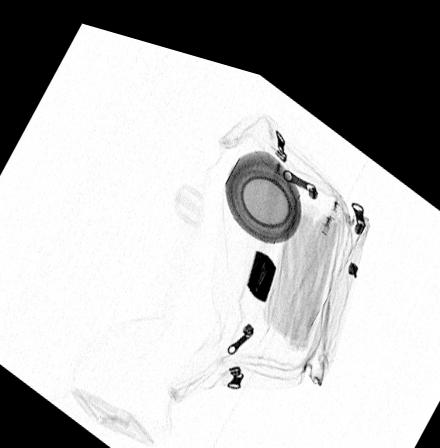Lighter: (245, 234, 277, 287)
